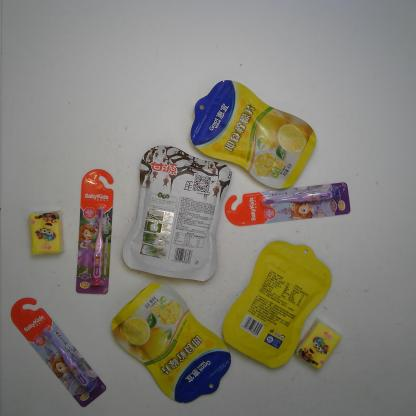Dried Fruit: (121, 145, 231, 281), (110, 282, 230, 404), (222, 240, 333, 370), (190, 80, 316, 189)
Personal Hygiene: (10, 298, 107, 407), (225, 182, 351, 227), (75, 170, 113, 294)
Tissue: (295, 317, 342, 370), (29, 210, 63, 256)
